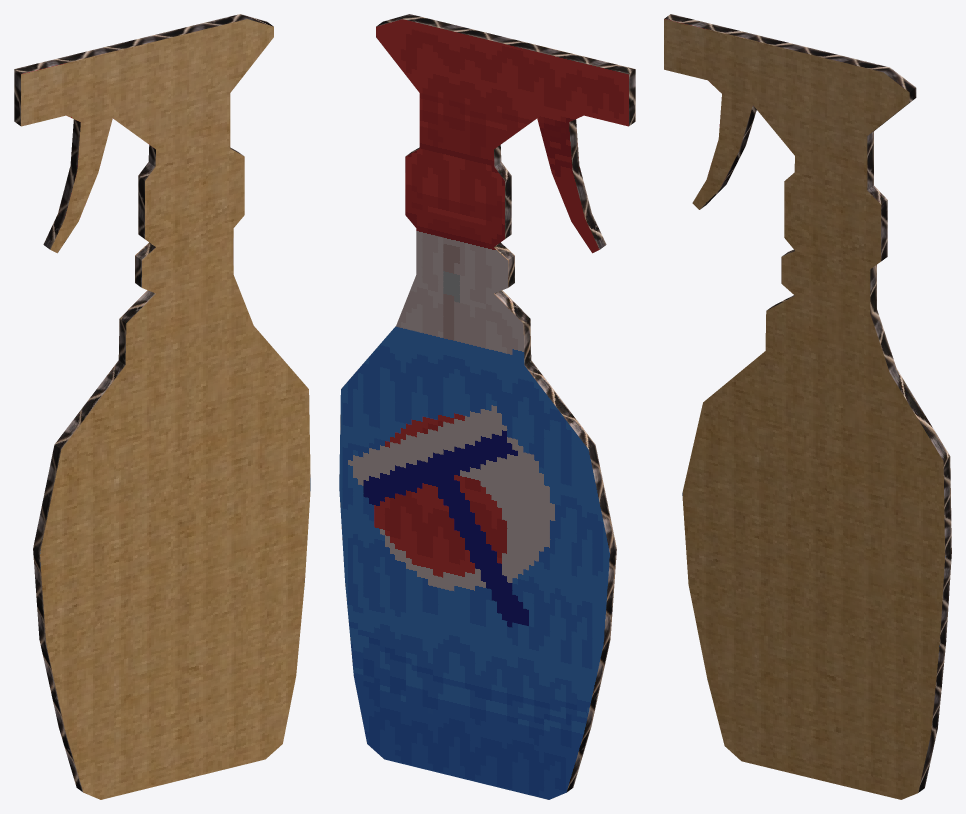
File: LIMPIAVIDRIOS.glb
The picture shows the model from 3 angles, left to right: view 1: azimuth 30°, elevation 25°; view 2: azimuth 150°, elevation 25°; view 3: azimuth 330°, elevation 25°; orthographic projection. The views are drawn at different scales.
Visible parts, largest first — view 1: LIMPIAVIDRIOS; view 2: LIMPIAVIDRIOS; view 3: LIMPIAVIDRIOS.
Part boxes in pixels (box(x1,y1,x2,y2)): LIMPIAVIDRIOS: box(14, 14, 310, 799); LIMPIAVIDRIOS: box(339, 14, 635, 799); LIMPIAVIDRIOS: box(664, 14, 951, 799).
Size of the model in its own units: 2.16 by 5.31 by 0.0893.
Materials: 1 (1 with a texture image).
